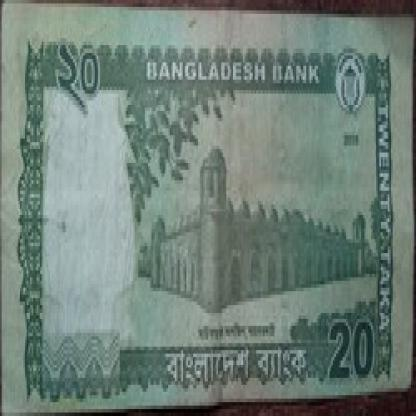Twenty: (47, 31, 113, 132), (321, 305, 376, 385)
